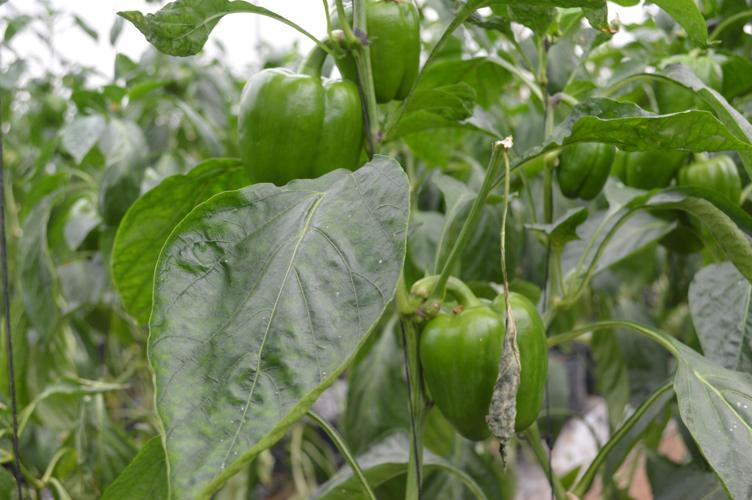BellPepper: (429, 291, 553, 451), (231, 67, 368, 194), (327, 6, 428, 107), (536, 112, 608, 206), (607, 123, 684, 205), (676, 151, 743, 217)
